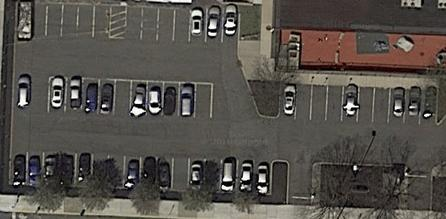parkingspot: (9, 150, 274, 195), (47, 76, 213, 121), (277, 81, 439, 127), (123, 5, 241, 46), (17, 2, 113, 42)
